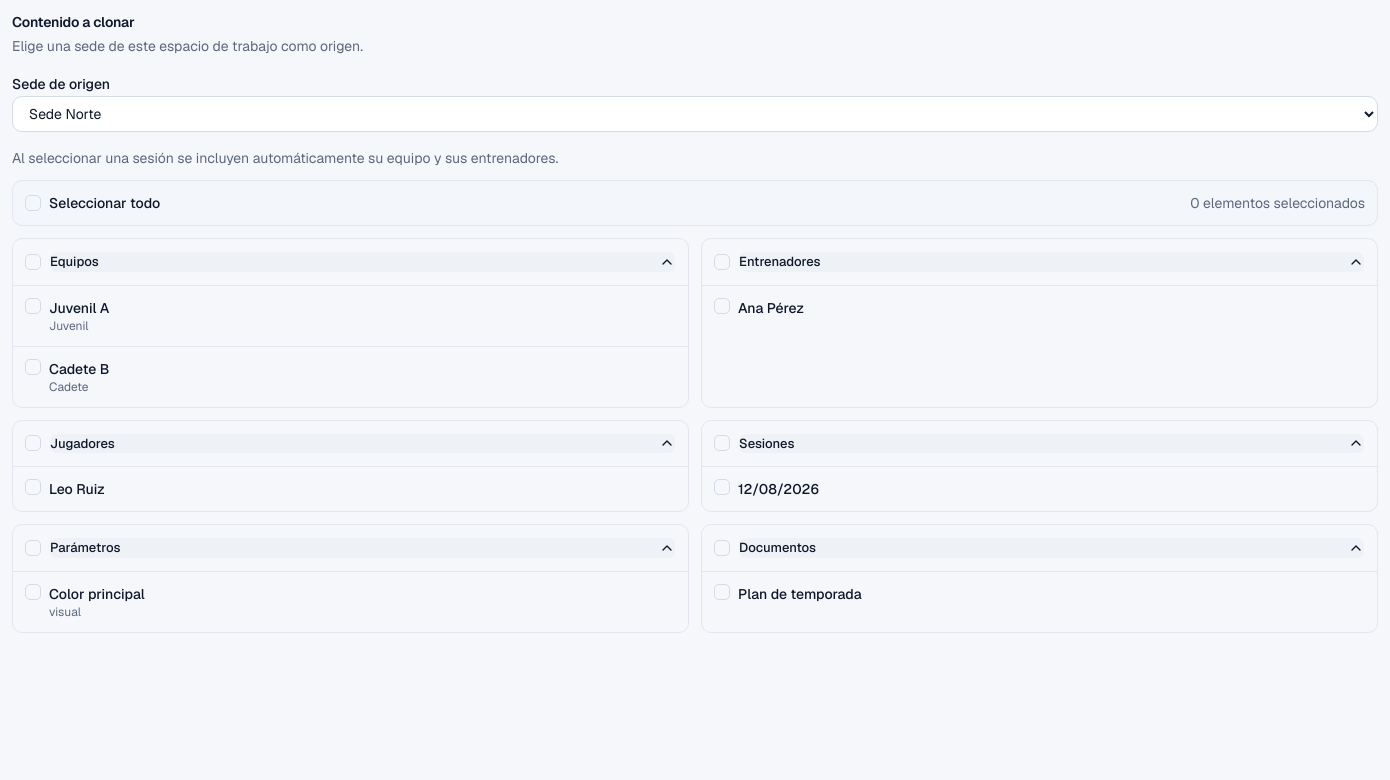
Test case: SedeCloneContentSelector › incluye y bloquea las dependencias de una sesión, y libera solo las automáticas
Click the checkbox named "Ana Pérez" at (722, 306), box left=714, top=298, right=730, bottom=314
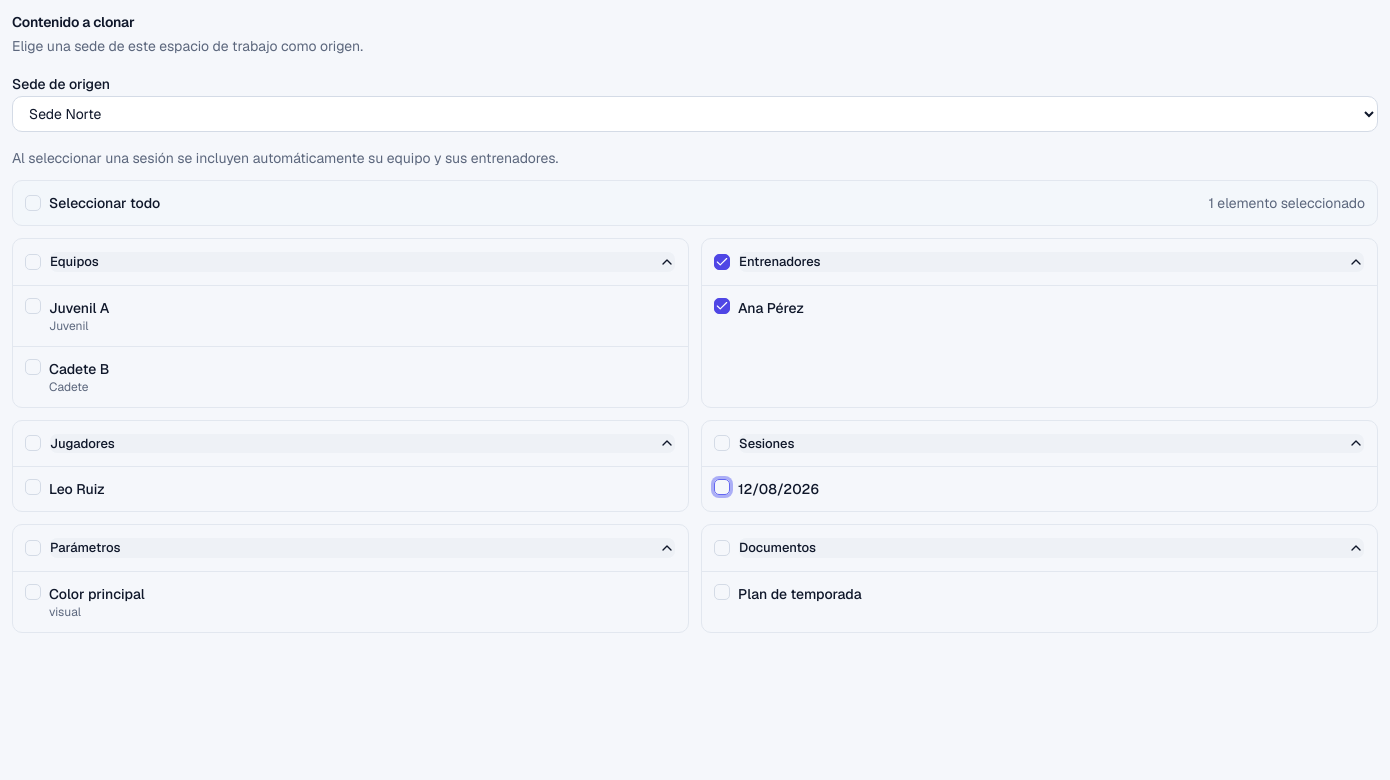
Click the checkbox named "12/08/2026" at (722, 487), box left=714, top=479, right=730, bottom=495
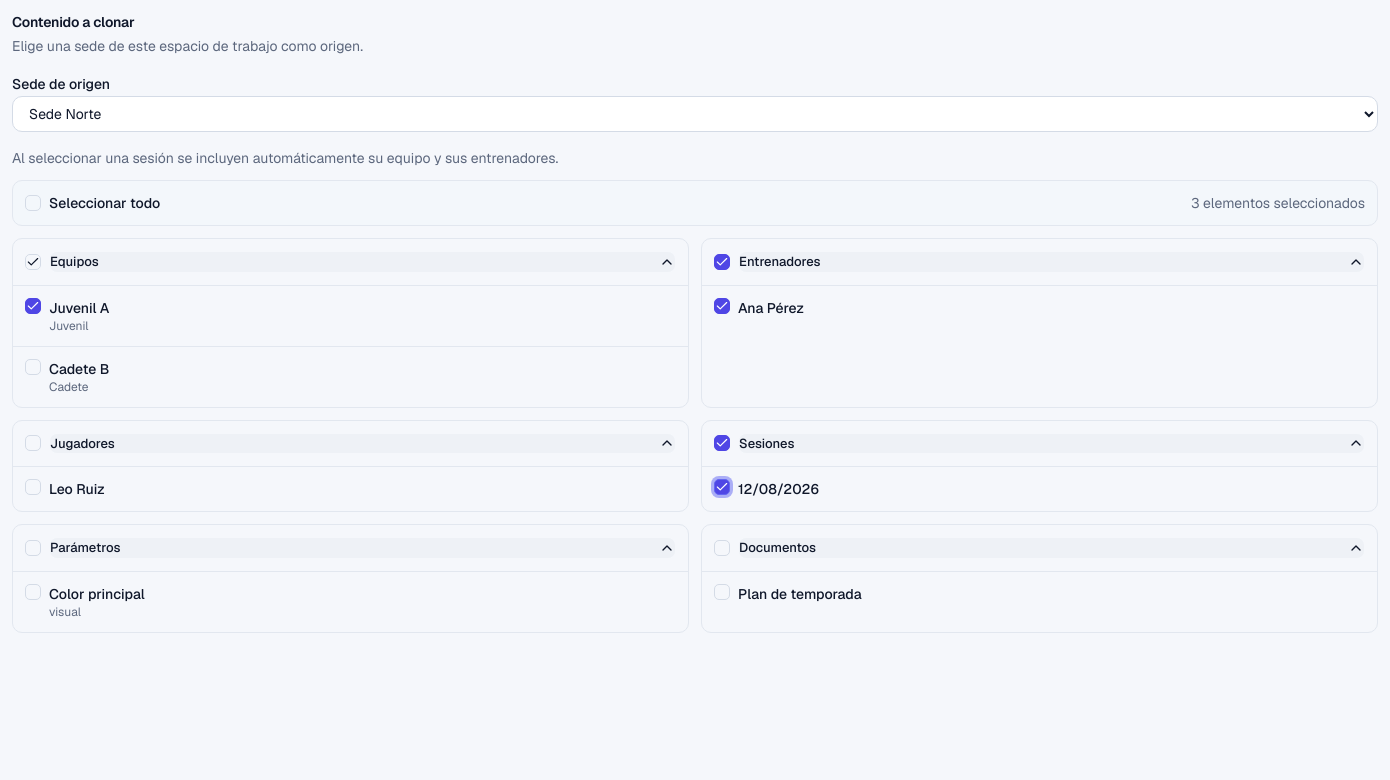
Result: the checkbox named "12/08/2026" is checked
Result: the checkbox named "Ana Pérez" is checked at left=714, top=298, right=730, bottom=314
Result: the checkbox named "Juvenil A" is checked at left=25, top=298, right=41, bottom=314
Press Space in the checkbox named "12/08/2026", box left=714, top=479, right=730, bottom=495
Click the checkbox named "12/08/2026" at (722, 487), box left=714, top=479, right=730, bottom=495
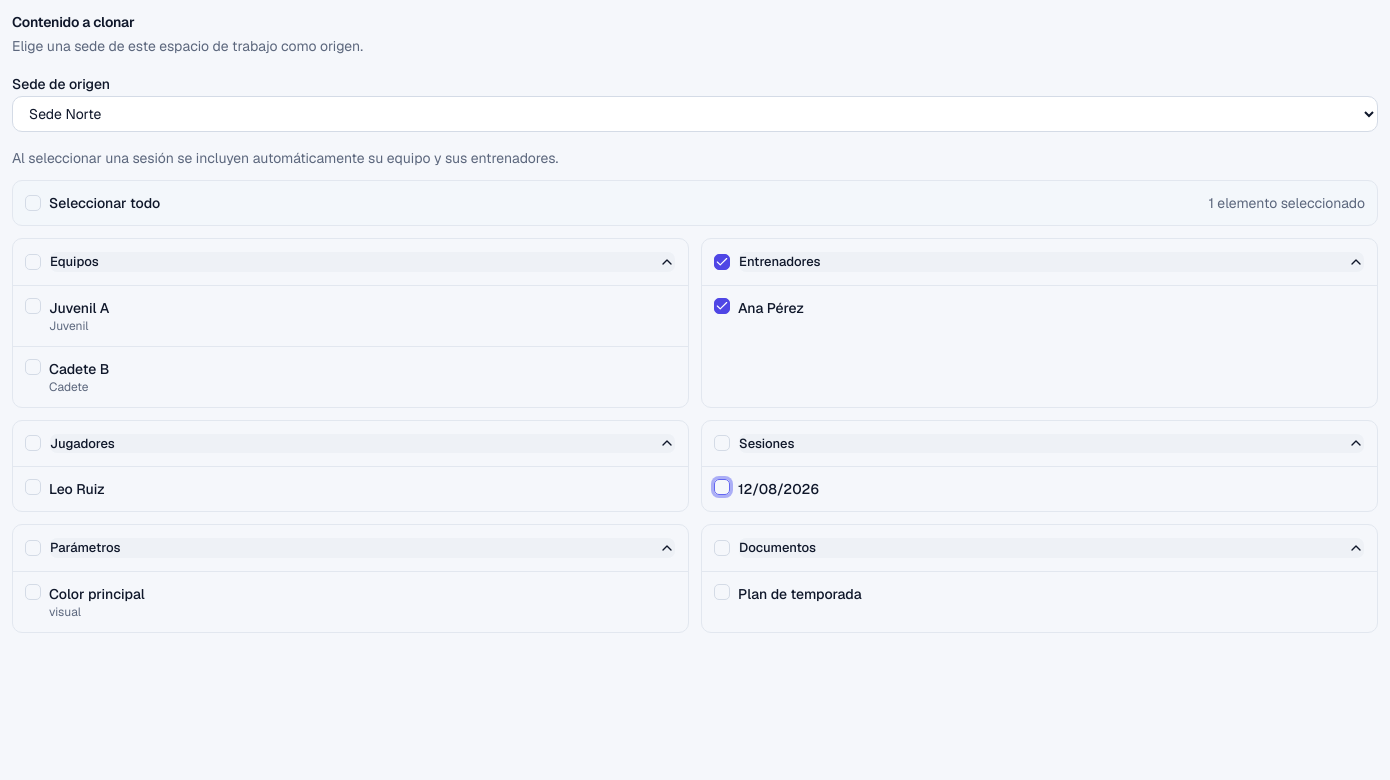
Result: the checkbox named "12/08/2026" is not checked at left=714, top=479, right=730, bottom=495
Result: the checkbox named "Ana Pérez" is checked at left=714, top=298, right=730, bottom=314
Result: the checkbox named "Juvenil A" is not checked at left=25, top=298, right=41, bottom=314
